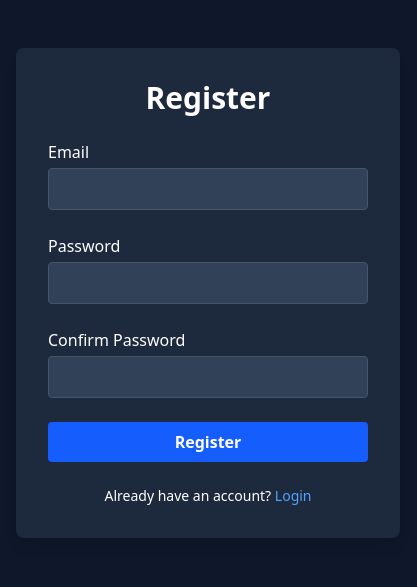
Test case: Register: shows error when passwords do not match
The image size is (417, 587).
Type "test@example.com" into the field labelled "Email". click: (208, 189)
box: [48,168,368,210]
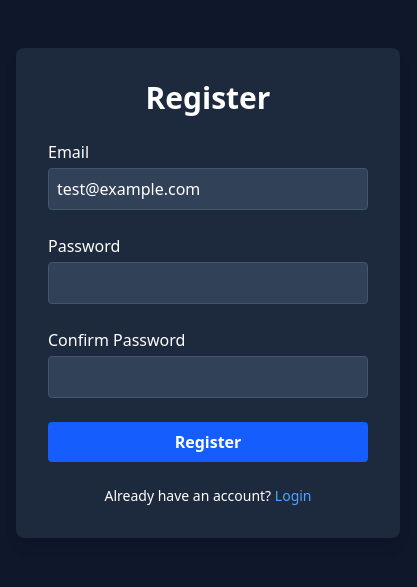
Type "123456" into the password field labelled "Password". click: (208, 283)
box: [48,262,368,304]
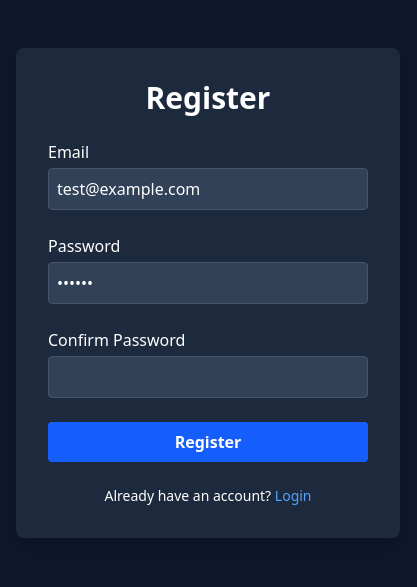
Type "654321" into the password field labelled "Confirm Password". click: (208, 377)
box: [48,356,368,398]
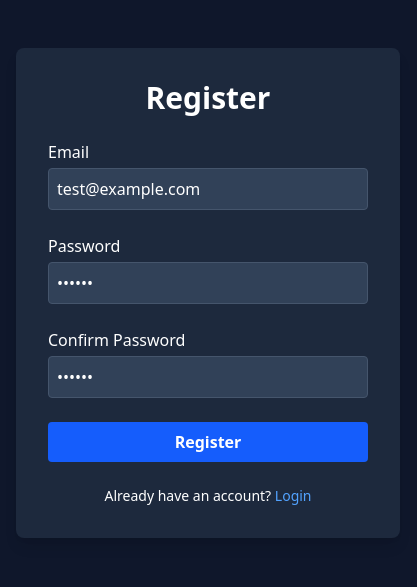
Click the button "Register". click: (208, 442)
box: [48,422,368,462]
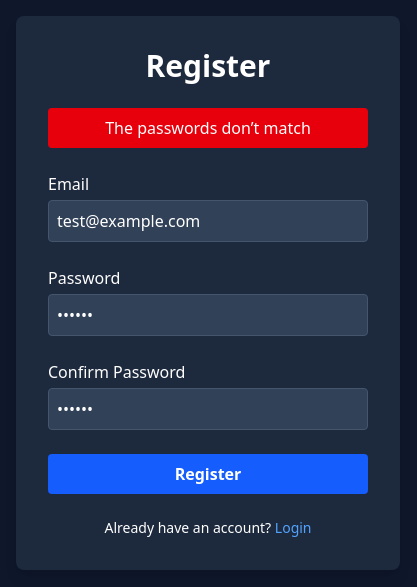
Now the text "The passwords don’t match" is shown, box [48,108,368,148]
